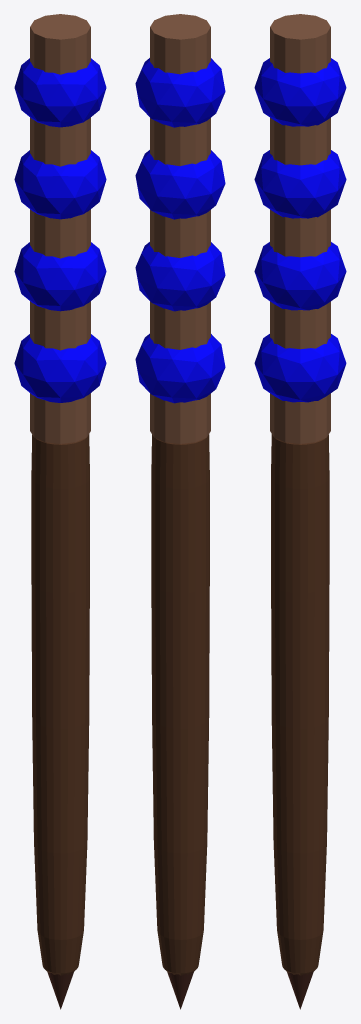
The model's file is Wand 32.glb.
3 renders of one model, left to right at view 1: azimuth 90°, elevation 25°; view 2: azimuth 150°, elevation 25°; view 3: azimuth 270°, elevation 25°, orthographic.
Visible parts, largest first — view 1: GeneratedWand; view 2: GeneratedWand; view 3: GeneratedWand.
Part boxes in pixels (x1,y1,x2,y2): GeneratedWand: [14, 14, 106, 1009]; GeneratedWand: [135, 14, 225, 1009]; GeneratedWand: [254, 14, 346, 1009].
Bounding box in the file's own units: 0.0407 × 0.5047 × 0.0428.
